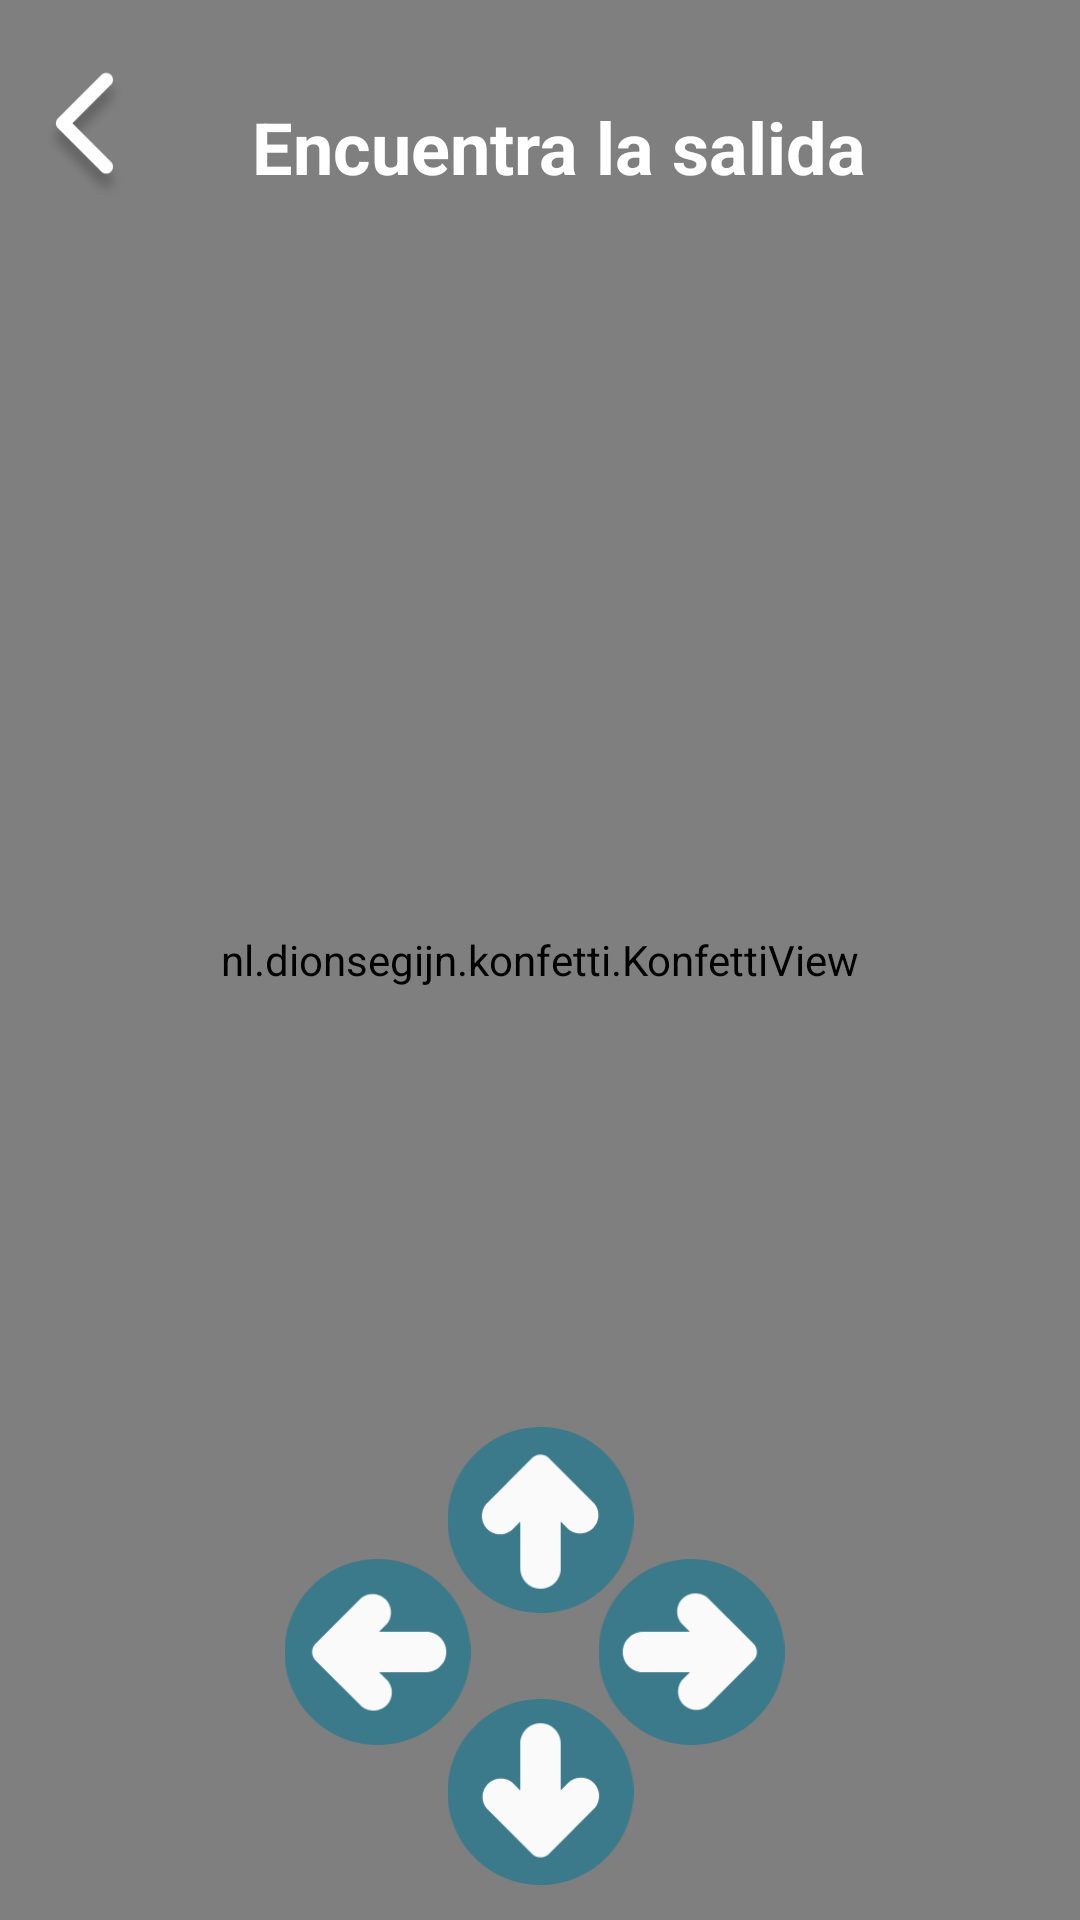

Icons on this 1080 × 1920 Android screen, each with its box as BBox(x1, y1, x2, y2):
Button to go up on maze: BBox(448, 1427, 634, 1613)
